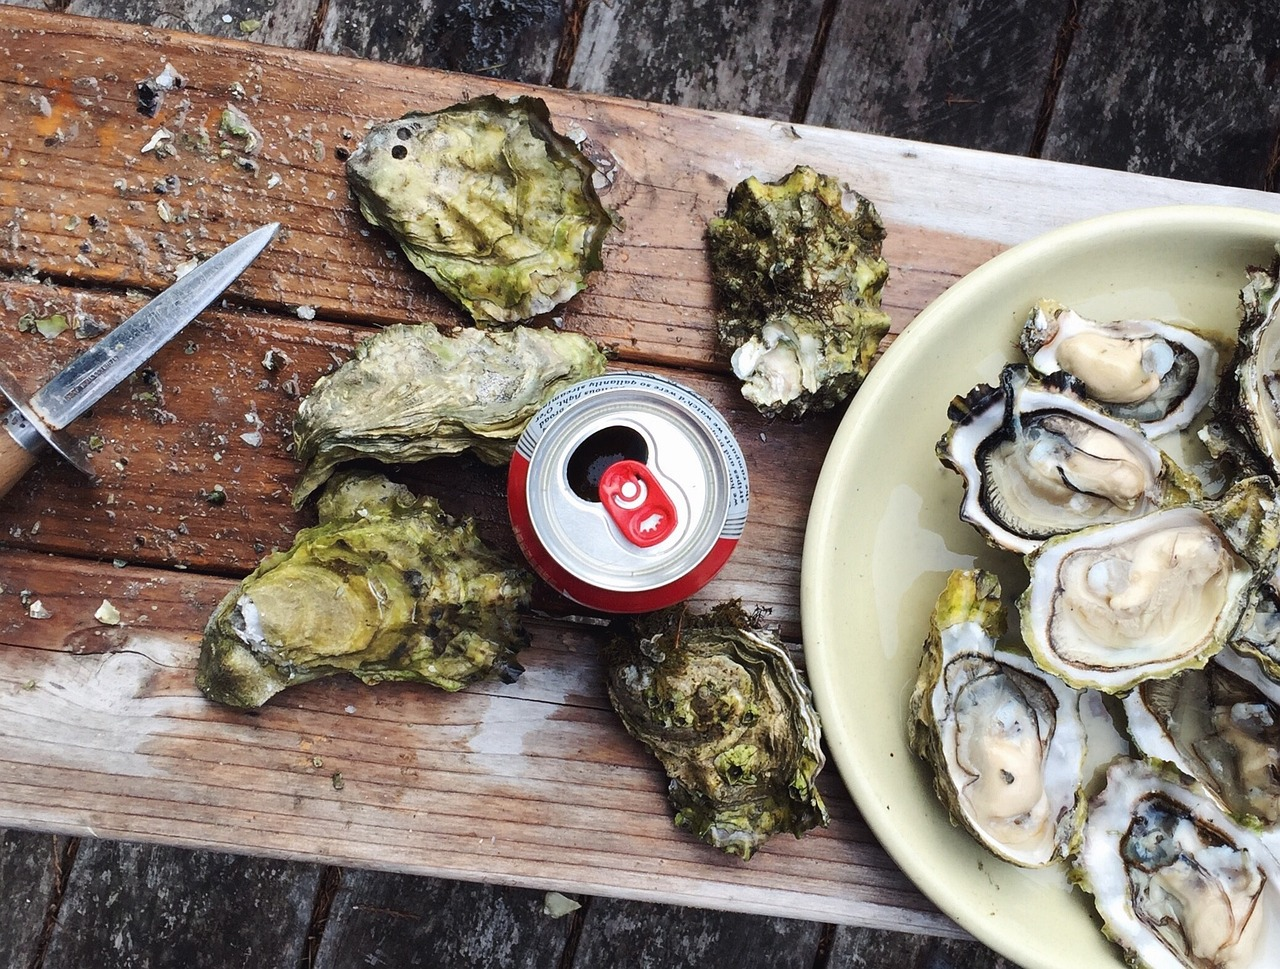alcohol: (498, 369, 752, 614)
knife: (0, 212, 305, 520)
